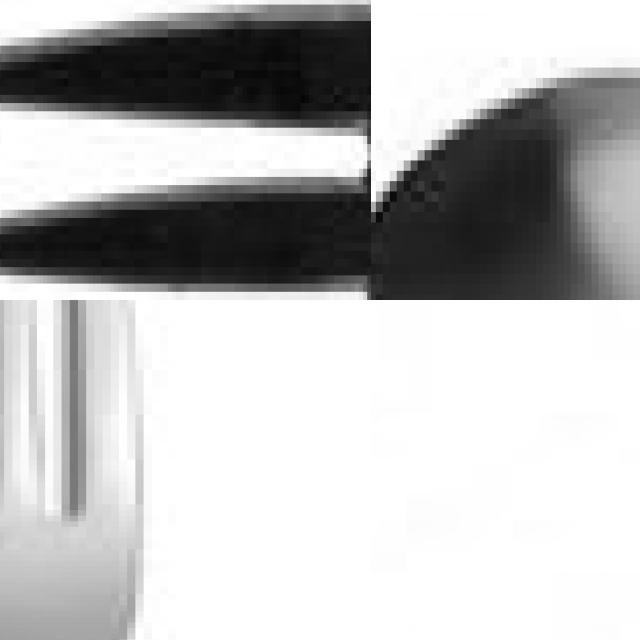forks: (0, 0, 371, 300)
spoons: (371, 35, 640, 300)
